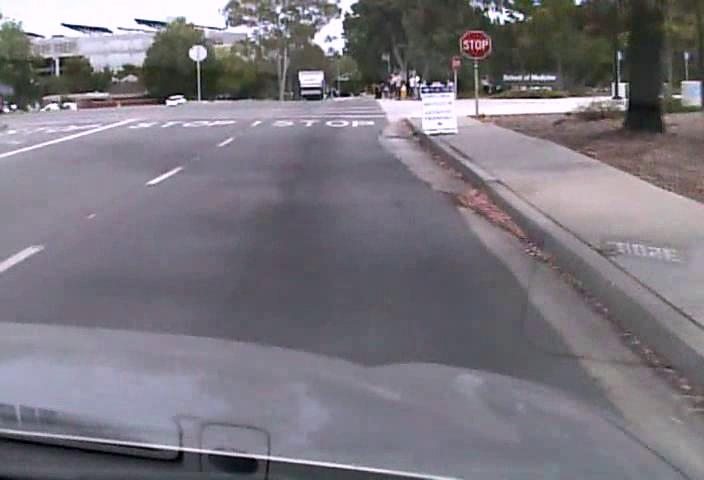stop: (459, 30, 492, 60)
